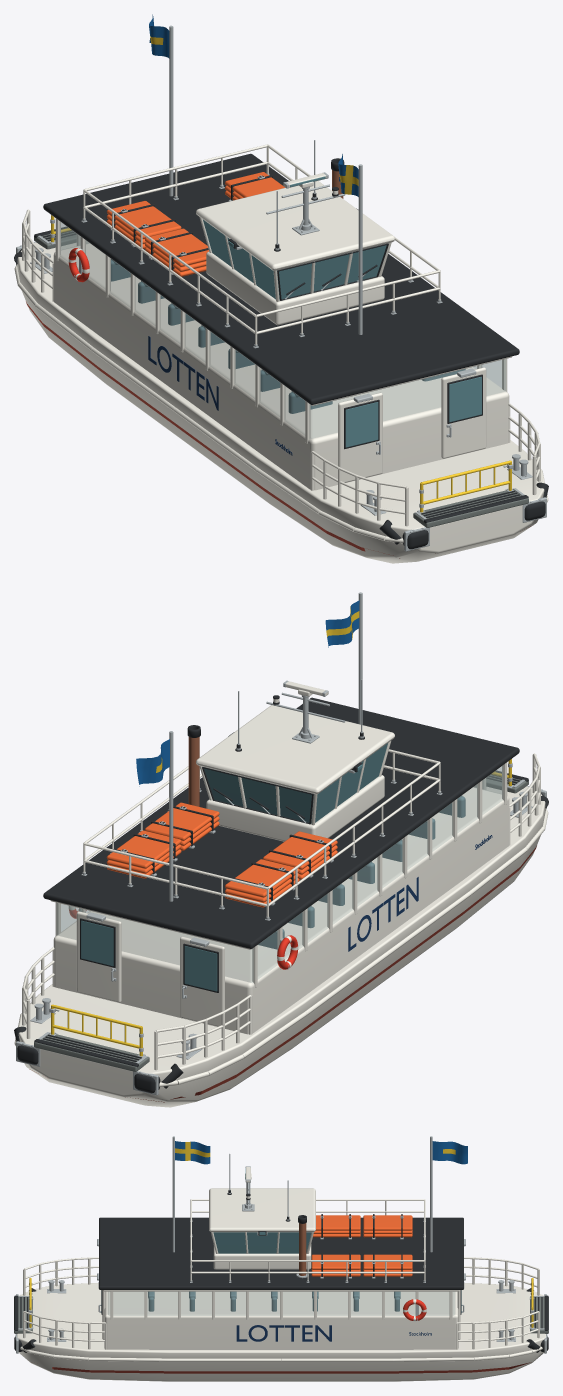
The model's file is lotten.glb.
3 renders of one model, top to bottom at view 1: azimuth 30°, elevation 25°; view 2: azimuth 150°, elevation 25°; view 3: azimuth 270°, elevation 25°, orthographic. The views are drawn at different scales.
Parts seen in each view (by area): view 1: Shelter roof, Main saloon, Chined displacement hull, Continuous tinted glazing, White wheelhouse roof, Pilot glass, Wheelhouse coaming, Boarding door.001, Boarding door, Lower landing ramp, Stacked flotation platform.005, Boarding door window (+9 smaller); view 2: Shelter roof, Main saloon, Chined displacement hull, Continuous tinted glazing, White wheelhouse roof, Pilot glass, Wheelhouse coaming, Boarding door.003, Boarding door.002, Lower landing ramp.001, Stacked flotation platform.008, Stacked flotation platform.011 (+14 smaller); view 3: Chined displacement hull, Main saloon, Shelter roof, Continuous tinted glazing, White wheelhouse roof, Pilot glass, Antifouling stripe.001, Wheelhouse coaming, Stacked flotation platform.005, Saloon window header, House burgee, Swedish ensign (+16 smaller).
Part boxes in pixels (x1,y1,x2,y2): Shelter roof: [43, 153, 519, 404]; Main saloon: [53, 243, 509, 490]; Chined displacement hull: [17, 242, 544, 563]; Continuous tinted glazing: [60, 222, 506, 438]; White wheelhouse roof: [196, 181, 394, 270]; Pilot glass: [203, 219, 386, 300]; Wheelhouse coaming: [206, 251, 384, 325]; Boarding door.001: [441, 367, 486, 458]; Boarding door: [338, 392, 382, 482]; Lower landing ramp: [413, 489, 528, 527]; Stacked flotation platform.005: [107, 201, 181, 238]; Boarding door window: [345, 402, 378, 447]; Shelter roof: [43, 697, 519, 948]; Main saloon: [53, 787, 509, 1034]; Chined displacement hull: [18, 786, 545, 1107]; Continuous tinted glazing: [56, 766, 502, 982]; White wheelhouse roof: [196, 705, 394, 794]; Pilot glass: [204, 743, 387, 823]; Wheelhouse coaming: [206, 775, 384, 841]; Boarding door.003: [76, 911, 121, 1002]; Boarding door.002: [180, 936, 224, 1026]; Lower landing ramp.001: [34, 1032, 149, 1071]; Stacked flotation platform.008: [145, 802, 219, 840]; Stacked flotation platform.011: [106, 830, 181, 868]; Chined displacement hull: [17, 1283, 545, 1381]; Main saloon: [104, 1291, 458, 1349]; Shelter roof: [99, 1217, 463, 1289]; Continuous tinted glazing: [108, 1292, 454, 1315]; White wheelhouse roof: [209, 1188, 315, 1232]; Pilot glass: [213, 1232, 311, 1253]; Antifouling stripe.001: [52, 1362, 531, 1373]; Wheelhouse coaming: [213, 1244, 311, 1269]; Stacked flotation platform.005: [363, 1215, 412, 1230]; Saloon window header: [103, 1290, 459, 1291]; House burgee: [432, 1141, 467, 1164]; Swedish ensign: [175, 1141, 210, 1164].
Bounding box in the file's own units: 4.08 × 5.95 × 12.92.
